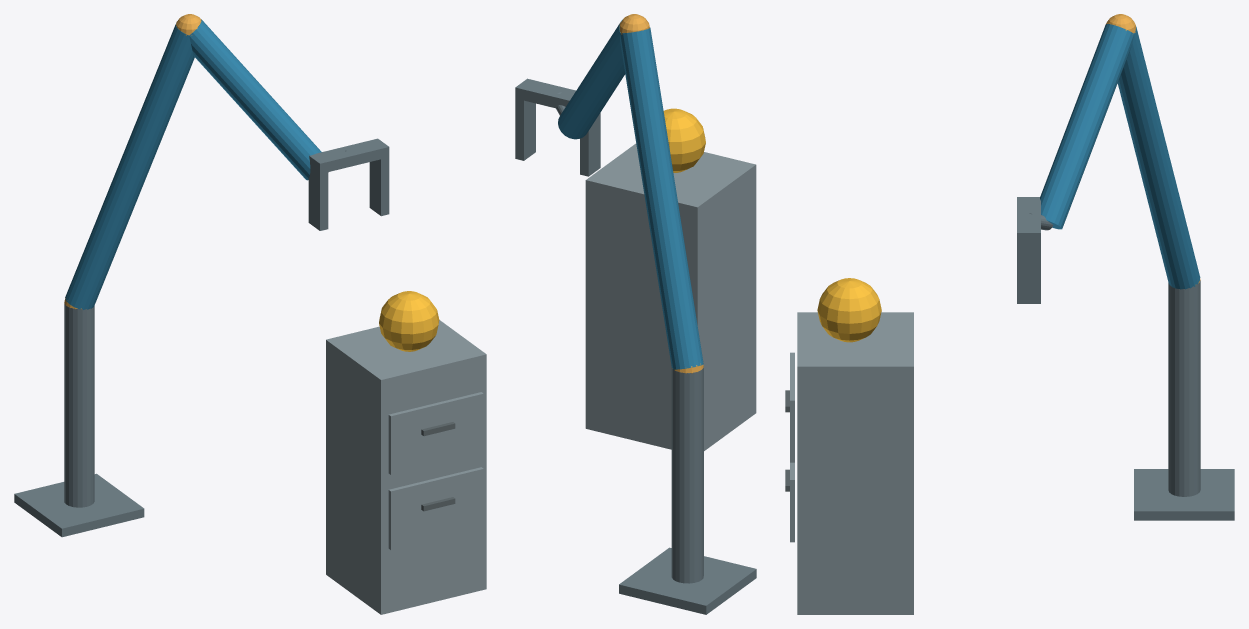
3 views of the same model, side by side, from view 1: azimuth 30°, elevation 25°; view 2: azimuth 150°, elevation 25°; view 3: azimuth 270°, elevation 25° (orthographic). The views are drawn at different scales.
Visible parts, largest first — view 1: cabinet_1 body, moving link 1, fixed post, cabinet_1 drawer front, cabinet_1 drawer front.001, moving link 2, pedestal, ball ball_1, gripper bridge, gripper finger -1, gripper finger 1; view 2: cabinet_1 body, moving link 1, fixed post, pedestal, moving link 2, ball ball_1, gripper finger 1, gripper bridge, gripper finger -1, joint 2; view 3: cabinet_1 body, moving link 1, fixed post, moving link 2, pedestal, ball ball_1, gripper finger 1, gripper bridge.
Boxes of the visible parts, left/top/right/bottom form: cabinet_1 body: left=326, top=320, right=486, bottom=614; moving link 1: left=65, top=24, right=194, bottom=309; fixed post: left=64, top=304, right=94, bottom=507; cabinet_1 drawer front: left=388, top=467, right=483, bottom=549; cabinet_1 drawer front.001: left=388, top=392, right=483, bottom=474; moving link 2: left=189, top=19, right=321, bottom=180; pedestal: left=14, top=473, right=144, bottom=537; ball ball_1: left=379, top=291, right=439, bottom=351; gripper bridge: left=309, top=138, right=389, bottom=173; gripper finger -1: left=308, top=167, right=328, bottom=230; gripper finger 1: left=369, top=157, right=389, bottom=216; cabinet_1 body: left=585, top=143, right=756, bottom=450; moving link 1: left=620, top=27, right=703, bottom=369; fixed post: left=671, top=365, right=703, bottom=583; pedestal: left=619, top=547, right=756, bottom=614; moving link 2: left=558, top=19, right=625, bottom=139; ball ball_1: left=663, top=108, right=705, bottom=172; gripper finger 1: left=515, top=98, right=535, bottom=160; gripper bridge: left=515, top=78, right=575, bottom=108; gripper finger -1: left=580, top=113, right=600, bottom=176; joint 2: left=619, top=14, right=649, bottom=34; cabinet_1 body: left=797, top=312, right=913, bottom=614; moving link 1: left=1117, top=26, right=1200, bottom=289; fixed post: left=1168, top=280, right=1200, bottom=496; moving link 2: left=1040, top=24, right=1133, bottom=229; pedestal: left=1134, top=469, right=1234, bottom=520; ball ball_1: left=817, top=278, right=881, bottom=342; gripper finger 1: left=1017, top=243, right=1040, bottom=303; gripper bridge: left=1017, top=197, right=1040, bottom=243.
Size of the model in its own units: 0.8242 by 1.44 by 1.12.
